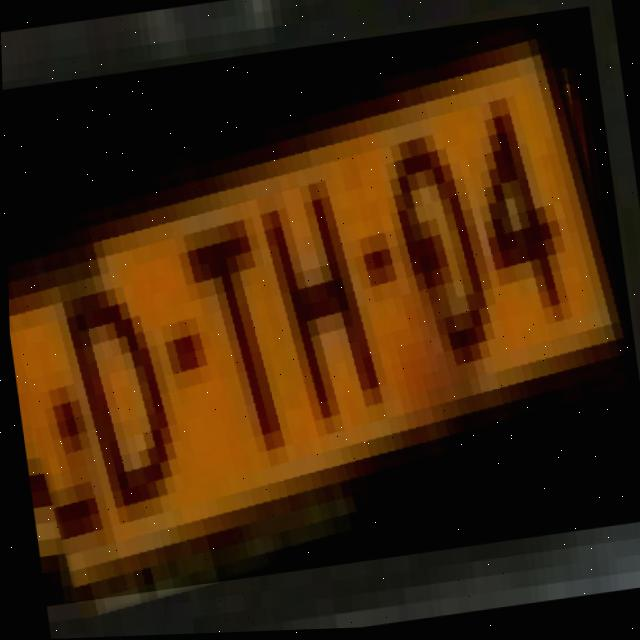LicensePlate: (1, 8, 640, 607)
